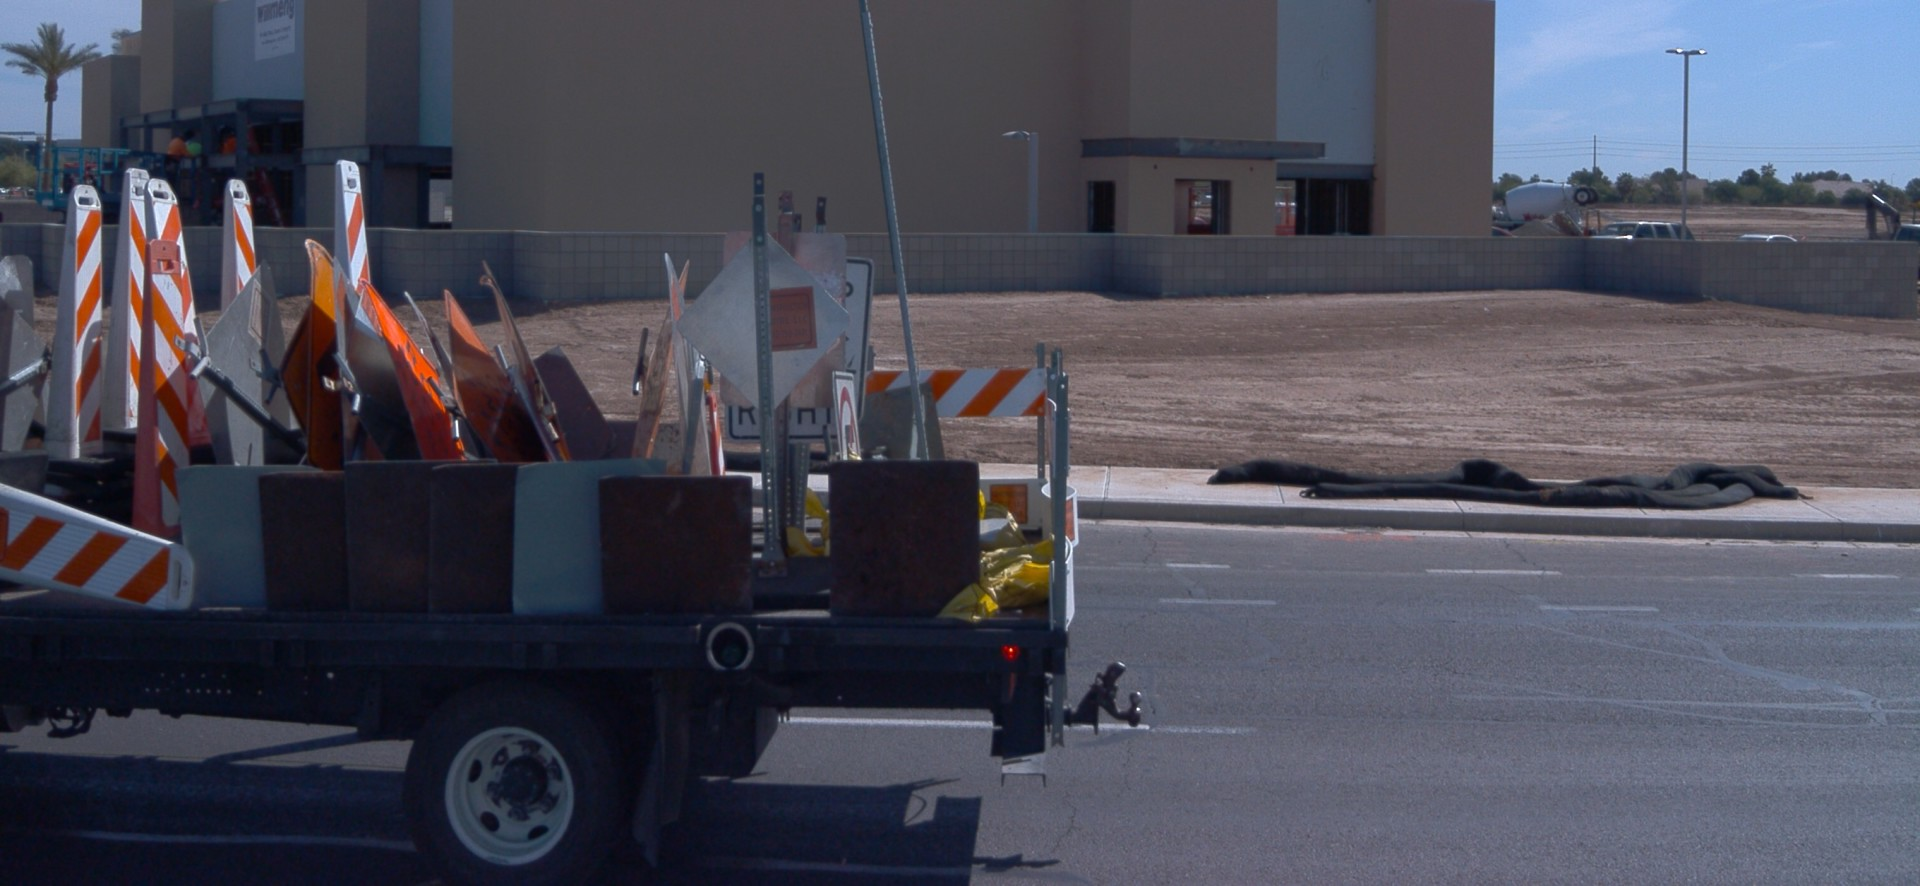TYPE_VEHICLE: (0, 138, 1160, 880), (0, 138, 1160, 880), (0, 138, 1160, 880), (0, 138, 1160, 880), (1490, 175, 1621, 231), (1490, 175, 1621, 231), (1490, 175, 1621, 231), (1490, 175, 1621, 231), (1859, 187, 1919, 242), (1859, 187, 1919, 242), (1859, 187, 1919, 242), (1859, 187, 1919, 242), (1586, 223, 1697, 244), (1586, 223, 1697, 244), (1586, 223, 1697, 244), (1586, 223, 1697, 244), (1892, 223, 1920, 284), (1892, 223, 1920, 284), (1892, 223, 1920, 284), (1892, 223, 1920, 284), (1549, 207, 1602, 239), (1549, 207, 1602, 239), (1549, 207, 1602, 239), (1549, 207, 1602, 239), (1736, 234, 1799, 245), (1736, 234, 1799, 245), (1736, 234, 1799, 245), (1736, 234, 1799, 245), (1489, 224, 1518, 245), (1489, 224, 1518, 245), (1489, 224, 1518, 245), (1489, 224, 1518, 245)
